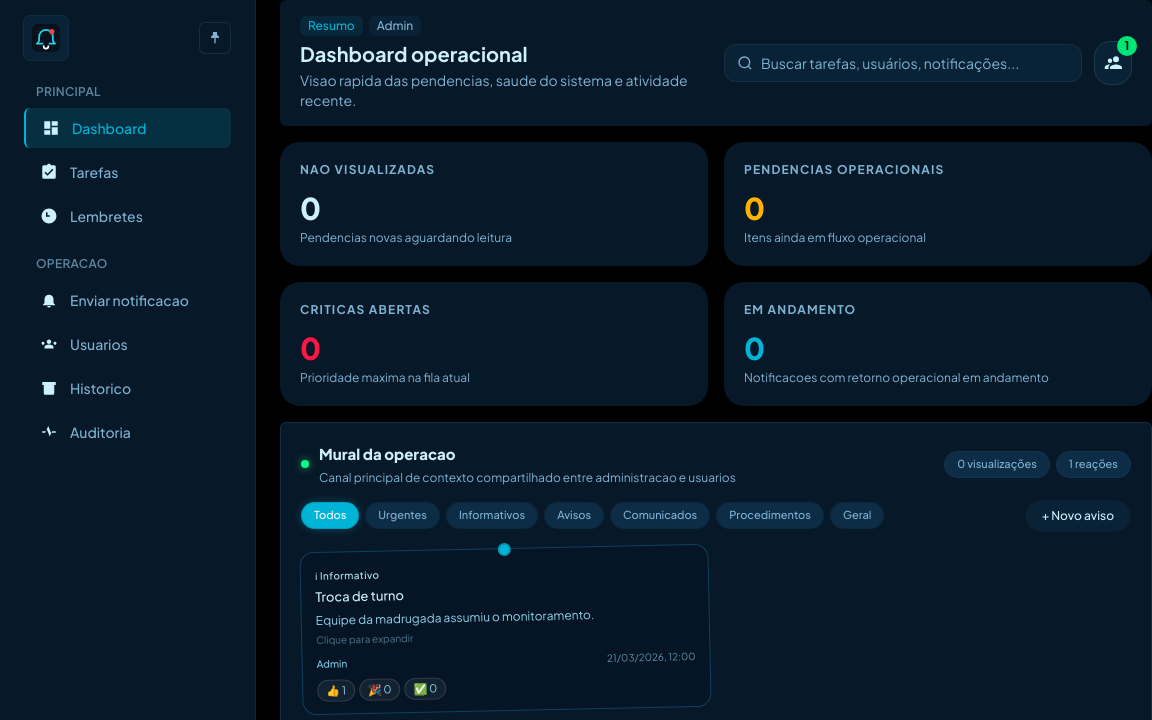
Test: AdminDashboard › atualiza usuarios online pelo payload do socket sem recarregar auditoria e historico
The width and height of the screenshot is (1152, 720).
Click the button named "Usuarios online".
click(1113, 63)  # box [1094,41,1132,85]
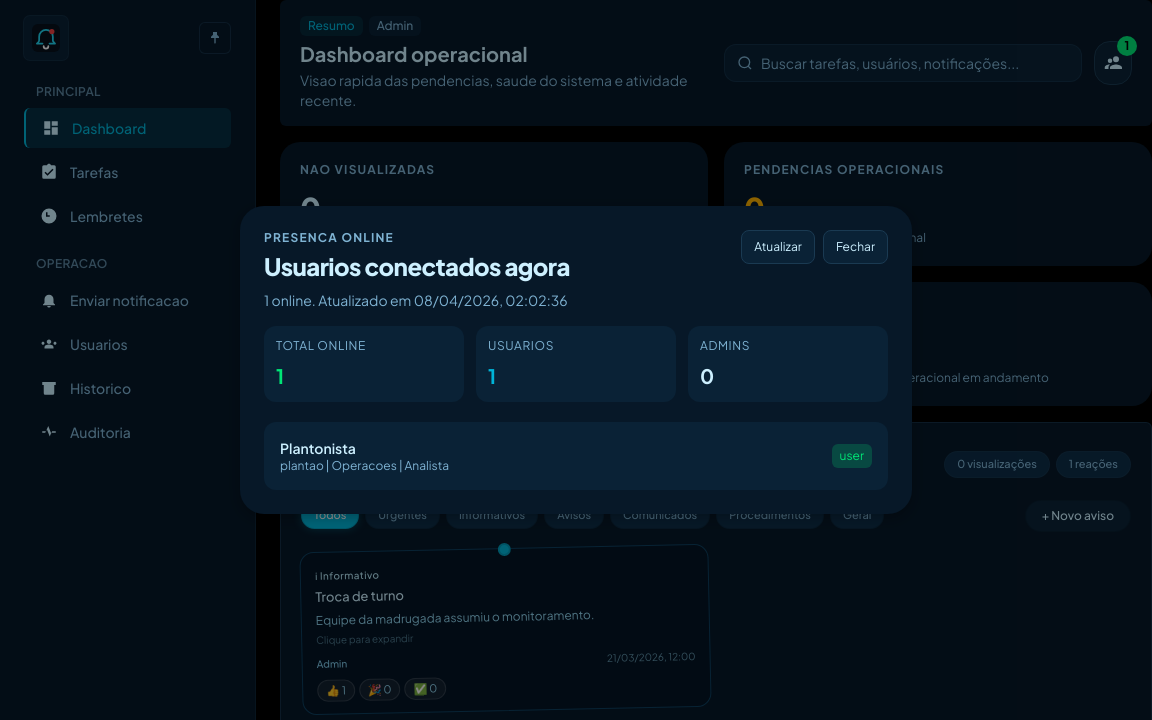
Check: the text "Plantonista" is shown, box [280,439,356,457]
